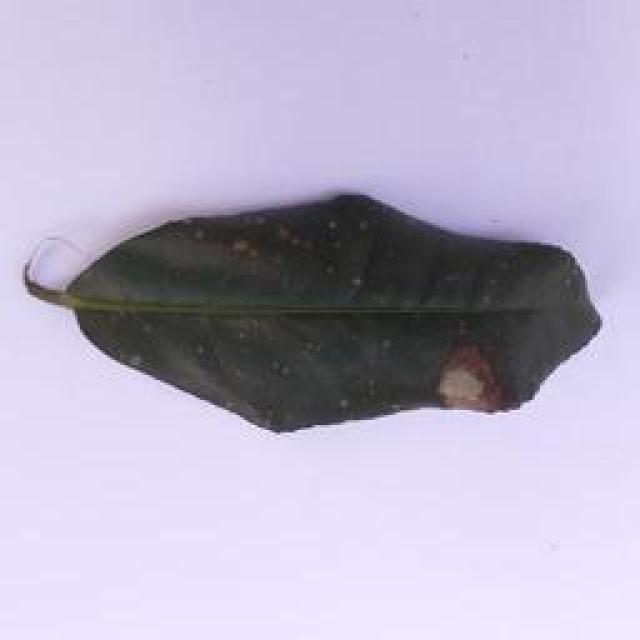Gray Blight: (8, 177, 637, 455)
